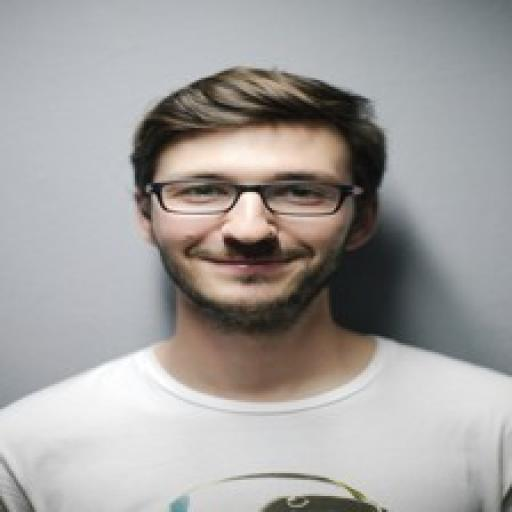human: (2, 41, 512, 510)
